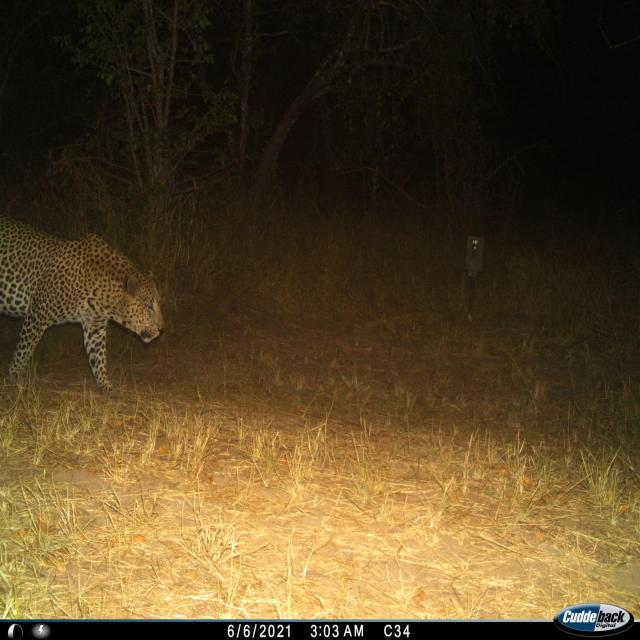Leopard: (0, 199, 173, 412)
